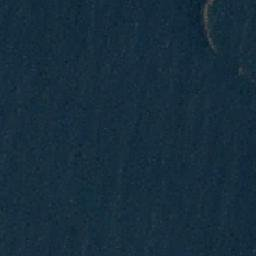debris: (199, 1, 218, 48)
